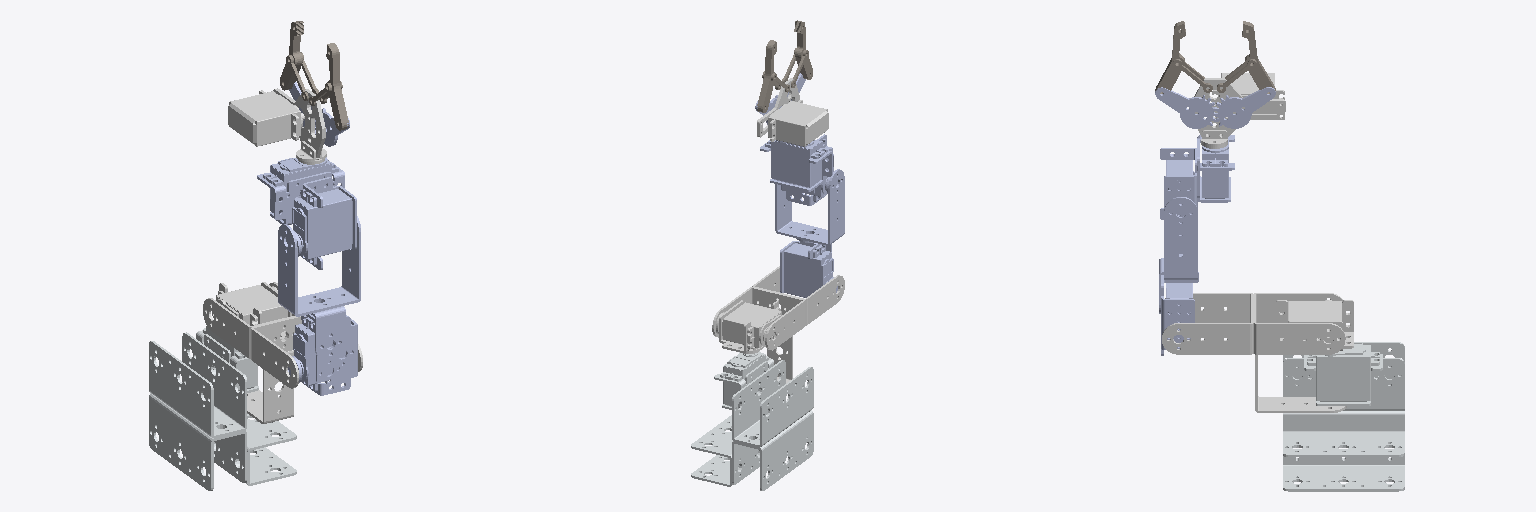
robot.urdf — robotics_arm:
<?xml version="1.0" encoding="utf-8"?>
<!-- This URDF was automatically created by SolidWorks to URDF Exporter! Originally created by [author] ([email redacted]) 
     Commit Version: 1.6.0-4-g7f85cfe  Build Version: 1.6.7995.38578
     For more information, please see http://wiki.ros.org/sw_urdf_exporter -->
<robot
  name="robotics_arm">
  <link
    name="base_link">
    <inertial>
      <origin
        xyz="0.0 0.0 0.0"
        rpy="0 0 0" />
      <mass
        value="0.19532" />
      <inertia
        ixx="0.00014045"
        ixy="2.4979E-07"
        ixz="7.5111E-16"
        iyy="0.00013483"
        iyz="-7.6006E-08"
        izz="6.0782E-05" />
    </inertial>
    <visual>
      <origin
        xyz="0 0 0"
        rpy="0 0 0" />
      <geometry>
        <mesh
          filename="package://robotics_arm_description/meshes/base_link.STL" />
      </geometry>
      <material
        name="">
        <color
          rgba="0.89804 0.91765 0.92941 1" />
      </material>
    </visual>
    <collision>
      <origin
        xyz="0 0 0"
        rpy="0 0 0" />
      <geometry>
        <mesh
          filename="package://robotics_arm_description/meshes/base_link.STL" />
      </geometry>
    </collision>
  </link>
  <link
    name="link_1">
    <inertial>
      <origin
        xyz="-0.0031208 -0.0049756 0.01652"
        rpy="0 0 0" />
      <mass
        value="0.075267" />
      <inertia
        ixx="3.3545E-05"
        ixy="-2.4977E-07"
        ixz="7.6005E-08"
        iyy="2.6443E-05"
        iyz="-7.5076E-16"
        izz="2.2815E-05" />
    </inertial>
    <visual>
      <origin
        xyz="0 0 0"
        rpy="0 0 0" />
      <geometry>
        <mesh
          filename="package://robotics_arm_description/meshes/link_1.STL" />
      </geometry>
      <material
        name="">
        <color
          rgba="0.89804 0.89804 0.89804 1" />
      </material>
    </visual>
    <collision>
      <origin
        xyz="0 0 0"
        rpy="0 0 0" />
      <geometry>
        <mesh
          filename="package://robotics_arm_description/meshes/link_1.STL" />
      </geometry>
    </collision>
  </link>
  <joint
    name="joint_1"
    type="revolute">
    <origin
      xyz="0.025 -0.01 0.105"
      rpy="-1.5708 0 3.142" />
    <parent
      link="base_link" />
    <child
      link="link_1" />
    <axis
      xyz="0 -1 0" />
    <limit
      lower="0"
      upper="3.142"
      effort="1.0"
      velocity="0.5" />
  </joint>
  <link
    name="link_2">
    <inertial>
      <origin
        xyz="-8.918E-07 -0.00018014 -0.049337"
        rpy="0 0 0" />
      <mass
        value="0.050948" />
      <inertia
        ixx="4.596E-05"
        ixy="2.8376E-20"
        ixz="-1.4107E-12"
        iyy="2.2618E-05"
        iyz="5.9094E-21"
        izz="2.8467E-05" />
    </inertial>
    <visual>
      <origin
        xyz="0 0 0"
        rpy="0 0 0" />
      <geometry>
        <mesh
          filename="package://robotics_arm_description/meshes/link_2.STL" />
      </geometry>
      <material
        name="">
        <color
          rgba="0.89804 0.89804 0.89804 1" />
      </material>
    </visual>
    <collision>
      <origin
        xyz="0 0 0"
        rpy="0 0 0" />
      <geometry>
        <mesh
          filename="package://robotics_arm_description/meshes/link_2.STL" />
      </geometry>
    </collision>
  </link>
  <joint
    name="joint_2"
    type="revolute">
    <origin
      xyz="-0.005 -0.019745 0.001"
      rpy="0 3.142 -1.571" />
    <parent
      link="link_1" />
    <child
      link="link_2" />
    <axis
      xyz="0 1 0" />
    <limit
      lower="0"
      upper="3.142"
      effort="1.0"
      velocity="0.5" />
  </joint>
  <link
    name="link_3">
    <inertial>
      <origin
        xyz="-0.074631 -0.0 -0.10187"
        rpy="0 0 0" />
      <mass
        value="0.08247" />
      <inertia
        ixx="2.3646E-05"
        ixy="-7.6043E-08"
        ixz="3.7595E-07"
        iyy="2.3364E-05"
        iyz="2.4976E-07"
        izz="3.9386E-05" />
    </inertial>
    <visual>
      <origin
        xyz="0 0 0"
        rpy="0 0 0" />
      <geometry>
        <mesh
          filename="package://robotics_arm_description/meshes/link_3.STL" />
      </geometry>
      <material
        name="">
        <color
          rgba="0.79216 0.81961 0.93333 1" />
      </material>
    </visual>
    <collision>
      <origin
        xyz="0 0 0"
        rpy="0 0 0" />
      <geometry>
        <mesh
          filename="package://robotics_arm_description/meshes/link_3.STL" />
      </geometry>
    </collision>
  </link>
  <joint
    name="joint_3"
    type="revolute">
    <origin
      xyz="0.0 0.025 -0.11"
      rpy="0 3.142 3.142" />
    <parent
      link="link_2" />
    <child
      link="link_3" />
    <axis
      xyz="0 1 0" />
    <limit
      lower="0"
      upper="3.142"
      effort="1.0"
      velocity="0.5" />
  </joint>
  <link
    name="link_4">
    <inertial>
      <origin
        xyz="-0.001684 0.021693 0.033431"
        rpy="0 0 0" />
      <mass
        value="0.099586" />
      <inertia
        ixx="1.9146E-05"
        ixy="-1.5201E-07"
        ixz="-2.4979E-07"
        iyy="1.928E-05"
        iyz="-2.4979E-07"
        izz="3.0134E-05" />
    </inertial>
    <visual>
      <origin
        xyz="0 0 0"
        rpy="0 0 0" />
      <geometry>
        <mesh
          filename="package://robotics_arm_description/meshes/link_4.STL" />
      </geometry>
      <material
        name="">
        <color
          rgba="0.79216 0.81961 0.93333 1" />
      </material>
    </visual>
    <collision>
      <origin
        xyz="0 0 0"
        rpy="0 0 0" />
      <geometry>
        <mesh
          filename="package://robotics_arm_description/meshes/link_4.STL" />
      </geometry>
    </collision>
  </link>
  <joint
    name="joint_4"
    type="revolute">
    <origin
      xyz="-0.1 -0.0005 -0.0"
      rpy="3.1416 0 0" />
    <parent
      link="link_3" />
    <child
      link="link_4" />
    <axis
      xyz="0.0 -1 0.0" />
    <limit
      lower="0"
      upper="3.142"
      effort="1.0"
      velocity="0.5" />
  </joint>


  <!--Gripper-->
  <link
    name="gripper_base">
    <inertial>
      <origin
        xyz="-0.000363540838981241 -0.00348535609044029 -8.80955530746519E-10"
        rpy="0 0 0" />
      <mass
        value="0.00593633535356358" />
      <inertia
        ixx="1.59159341867429E-07"
        ixy="1.90789506838977E-09"
        ixz="-8.84539102937578E-17"
        iyy="2.93200101138606E-07"
        iyz="-3.77523037886217E-16"
        izz="1.49447486803871E-07" />
    </inertial>
    <visual>
      <origin
        xyz="0 0 0"
        rpy="0 0 0" />
      <geometry>
        <mesh
          filename="package://robotics_arm_description/meshes/gripper_base.STL" />
      </geometry>
      <material
        name="">
        <color
          rgba="0.898039215686275 0.898039215686275 0.898039215686275 1" />
      </material>
    </visual>
    <collision>
      <origin
        xyz="0 0 0"
        rpy="0 0 0" />
      <geometry>
        <mesh
          filename="package://robotics_arm_description/meshes/gripper_base.STL" />
      </geometry>
    </collision>
  </link>
  <joint
    name="gripper_base_joint"
    type="revolute">
    <origin
      xyz="-0.048 -0.03 0.026"
      rpy="3.142 0 1.5708" />
    <parent
      link="link_4" />
    <child
      link="gripper_base" />
    <axis
      xyz="0 -1 0" />
    <limit
      lower="0"
      upper="3.142"
      effort="1.0"
      velocity="0.5" />
  </joint>
  
  <link
    name="right_knuckle">
    <inertial>
      <origin
        xyz="0.00668261986107144 0.000411552195934639 0.00125000041516807"
        rpy="0 0 0" />
      <mass
        value="0.00186749158806896" />
      <inertia
        ixx="6.43881538535286E-08"
        ixy="8.60444943248738E-09"
        ixz="1.44343016890503E-22"
        iyy="2.9102971724496E-07"
        iyz="-3.5237894094759E-22"
        izz="3.53472567360917E-07" />
    </inertial>
    <visual>
      <origin
        xyz="0 0 0"
        rpy="0 0 0" />
      <geometry>
        <mesh
          filename="package://robotics_arm_description/meshes/right_knuckle.STL" />
      </geometry>
      <material
        name="">
        <color
          rgba="0.792156862745098 0.819607843137255 0.933333333333333 1" />
      </material>
    </visual>
    <collision>
      <origin
        xyz="0 0 0"
        rpy="0 0 0" />
      <geometry>
        <mesh
          filename="package://robotics_arm_description/meshes/right_knuckle.STL" />
      </geometry>
    </collision>
  </link>
  <joint
    name="gripper_joint"
    type="revolute">
    <origin
      xyz="-0.0045 -0.029286 -0.014782"
      rpy="1.5708 0.99851 -1.5708" />
    <parent
      link="gripper_base" />
    <child
      link="right_knuckle" />
    <axis
      xyz="0 0 1" />
    <limit
      lower="0"
      upper="0.8"
      effort="1.0"
      velocity="0.5" />
  </joint>
  <link
    name="right_finger">
    <inertial>
       <origin
        xyz="-0.00979937596486929 0.00270099795344181 -3.55234022753059E-10"
        rpy="0 0 0" />
      <mass
        value="0.0228241558821815" />
      <inertia
        ixx="5.52737412324421E-07"
        ixy="1.37764922823382E-06"
        ixz="2.4709539258184E-20"
        iyy="6.56789691049883E-06"
        iyz="-6.88214269644119E-21"
        izz="7.08639808899998E-06" />
    </inertial>
    <visual>
      <origin
        xyz="0 0 0"
        rpy="0 0 0" />
      <geometry>
        <mesh
          filename="package://robotics_arm_description/meshes/left_finger.STL" />
      </geometry>
      <material
        name="">
        <color
          rgba="0.647058823529412 0.619607843137255 0.588235294117647 1" />
      </material>
    </visual>
    <collision>
      <origin
        xyz="0 0 0"
        rpy="0 0 0" />
      <geometry>
        <mesh
          filename="package://robotics_arm_description/meshes/left_finger.STL" />
      </geometry>
    </collision>
  </link>
  <joint
    name="right_outer_joint"
    type="revolute">
    <origin
      xyz="0.03 0.0 -0.005"
      rpy="0 0 -1.647" />
    <parent
      link="right_knuckle" />
    <child
      link="right_finger" />
    <axis
      xyz="0 0 -1" />
    <limit
      lower="0"
      upper="0.8"
      effort="1.0"
      velocity="0.5" />
    <mimic
      joint="gripper_joint"
      multiplier="1"
      offset="0" />
  </joint>
  <link
    name="right_inner_link">
    <inertial>
      <origin
        xyz="5.1147974744481E-13 -2.2266355426126E-12 0.00550000000011003"
        rpy="0 0 0" />
      <mass
        value="0.00510100743119223" />
      <inertia
        ixx="1.34527151286055E-08"
        ixy="-3.34811858124617E-18"
        ixz="5.43871252753616E-23"
        iyy="6.76243183348528E-07"
        iyz="6.28657265540301E-23"
        izz="6.84382349069641E-07" />
    </inertial>
    <visual>
      <origin
        xyz="0 0 0"
        rpy="0 0 0" />
      <geometry>
        <mesh
          filename="package://robotics_arm_description/meshes/left_inner_link.STL" />
      </geometry>
      <material
        name="">
        <color
          rgba="0.647058823529412 0.619607843137255 0.588235294117647 1" />
      </material>
    </visual>
    <collision>
      <origin
        xyz="0 0 0"
        rpy="0 0 0" />
      <geometry>
        <mesh
          filename="package://robotics_arm_description/meshes/left_inner_link.STL" />
      </geometry>
    </collision>
  </link>
  <joint
    name="right_inner_joint"
    type="revolute">
    <origin
      xyz="-0.0025 -0.05 -0.005"
      rpy="1.5708 -0.85555 1.5708" />
    <parent
      link="gripper_base" />
    <child
      link="right_inner_link" />
    <axis
      xyz="0 0 -1" />
    <limit
      lower="0"
      upper="0.8"
      effort="1.0"
      velocity="0.5" />
    <mimic
      joint="gripper_joint"
      multiplier="1"
      offset="0" />
  </joint>
  <link
    name="left_inner_link">
    <inertial>
      <origin
        xyz="-3.23715826366922E-09 2.54691268075646E-10 -0.00300000007424722"
        rpy="0 0 0" />
      <mass
        value="0.00510100743119225" />
      <inertia
        ixx="1.34527151286056E-08"
        ixy="-6.39099484239893E-15"
        ixz="2.94455618553564E-21"
        iyy="6.76243183348529E-07"
        iyz="-1.32348898008484E-23"
        izz="6.84382349069643E-07" />
    </inertial>
    <visual>
      <origin
        xyz="0 0 0"
        rpy="0 0 0" />
      <geometry>
        <mesh
          filename="package://robotics_arm_description/meshes/left_inner_link.STL" />
      </geometry>
      <material
        name="">
        <color
          rgba="0.647058823529412 0.619607843137255 0.588235294117647 1" />
      </material>
    </visual>
    <collision>
      <origin
        xyz="0 0 0"
        rpy="0 0 0" />
      <geometry>
        <mesh
          filename="package://robotics_arm_description/meshes/left_inner_link.STL" />
      </geometry>
    </collision>
  </link>
  <joint
    name="left_inner_joint"
    type="revolute">
    <origin
      xyz="-0.0025 -0.05 0.005"
      rpy="-1.5708 0.84609 1.5708" />
    <parent
      link="gripper_base" />
    <child
      link="left_inner_link" />
    <axis
      xyz="0 0 -1" />
    <limit
      lower="0"
      upper="0.8"
      effort="1.0"
      velocity="0.5" />
    <mimic
      joint="gripper_joint"
      multiplier="1"
      offset="0" />
  </joint>
  <link
    name="left_knuckle">
    <inertial>
      <origin
        xyz="0.00668260569846107 0.000411535901404525 0.00125000002359923"
        rpy="0 0 0" />
      <mass
        value="0.00186749158806896" />
      <inertia
        ixx="6.43881535863432E-08"
        ixy="8.60444591364846E-09"
        ixz="1.04927860702352E-21"
        iyy="2.91029717512146E-07"
        iyz="1.91905902112302E-22"
        izz="3.53472567360918E-07" />
    </inertial>
    <visual>
      <origin
        xyz="0 0 0"
        rpy="0 0 0" />
      <geometry>
        <mesh
          filename="package://robotics_arm_description/meshes/left_knuckle.STL" />
      </geometry>
      <material
        name="">
        <color
          rgba="0.792156862745098 0.819607843137255 0.933333333333333 1" />
      </material>
    </visual>
    <collision>
      <origin
        xyz="0 0 0"
        rpy="0 0 0" />
      <geometry>
        <mesh
          filename="package://robotics_arm_description/meshes/left_knuckle.STL" />
      </geometry>
    </collision>
  </link>
  <joint
    name="left_knuckle_joint"
    type="revolute">
    <origin
      xyz="-0.007 -0.029303 0.013318"
      rpy="-1.5708 -1.0122 -1.5708" />
    <parent
      link="gripper_base" />
    <child
      link="left_knuckle" />
    <axis
      xyz="0 0 1" />
    <limit
      lower="0"
      upper="0.8"
      effort="1.0"
      velocity="0.5" />
    <mimic
      joint="gripper_joint"
      multiplier="1"
      offset="0" />
  </joint>
  <link
    name="left_finger">
    <inertial>
      <origin
        xyz="-0.00979937915283868 0.00270100620085434 0.00300000005464007"
        rpy="0 0 0" />
      <mass
        value="0.0228241558821816" />
      <inertia
        ixx="5.52737369249781E-07"
        ixy="1.37764913419651E-06"
        ixz="-3.03773808153974E-20"
        iyy="6.56789695357349E-06"
        iyz="6.63610816299495E-21"
        izz="7.08639808899999E-06" />
    </inertial>
    <visual>
      <origin
        xyz="0 0 0"
        rpy="0 0 0" />
      <geometry>
        <mesh
          filename="package://robotics_arm_description/meshes/left_finger.STL" />
      </geometry>
      <material
        name="">
        <color
          rgba="0.647058823529412 0.619607843137255 0.588235294117647 1" />
      </material>
    </visual>
    <collision>
      <origin
        xyz="0 0 0"
        rpy="0 0 0" />
      <geometry>
        <mesh
          filename="package://robotics_arm_description/meshes/left_finger.STL" />
      </geometry>
    </collision>
  </link>
  <joint
    name="left_finger_joint"
    type="revolute">
    <origin
      xyz="0.03 0.0 0.001"
      rpy="0 0 -1.6774" />
    <parent
      link="left_knuckle" />
    <child
      link="left_finger" />
    <axis
      xyz="0 0 -1" />
    <limit
      lower="0"
      upper="0.8"
      effort="1.0"
      velocity="0.5" />
    <mimic
      joint="gripper_joint"
      multiplier="1"
      offset="0" />
  </joint>
</robot>

--- Render facts (derived) ---
3 views of the same robot in one strip: view 1: azimuth 30°, elevation 25°; view 2: azimuth 150°, elevation 25°; view 3: azimuth 270°, elevation 25° (orthographic).
Robot: robotics_arm — 12 links, 11 joints (11 revolute); root link base_link; default pose: all joints at 0.
Links seen in each view (by area): view 1: base_link, link_3, link_4, gripper_base, link_2, link_1, left_finger, right_finger; view 2: base_link, link_3, link_2, link_4, link_1, gripper_base, right_finger, left_finger; view 3: base_link, link_2, link_3, link_4, link_1, gripper_base, right_knuckle, left_knuckle, right_finger, left_finger.
Link boxes in pixels (left/top/right/bottom): base_link: left=149, top=326, right=296, bottom=490; link_3: left=278, top=216, right=360, bottom=395; link_4: left=257, top=157, right=356, bottom=269; gripper_base: left=228, top=88, right=326, bottom=164; link_2: left=203, top=282, right=362, bottom=388; link_1: left=212, top=282, right=293, bottom=423; left_finger: left=326, top=43, right=348, bottom=130; right_finger: left=280, top=21, right=303, bottom=90; base_link: left=691, top=351, right=813, bottom=490; link_3: left=775, top=169, right=844, bottom=297; link_2: left=712, top=266, right=844, bottom=349; link_4: left=760, top=134, right=837, bottom=205; link_1: left=719, top=300, right=792, bottom=383; gripper_base: left=757, top=78, right=828, bottom=146; right_finger: left=757, top=40, right=776, bottom=112; left_finger: left=794, top=20, right=812, bottom=79; base_link: left=1283, top=342, right=1404, bottom=491; link_2: left=1162, top=293, right=1345, bottom=354; link_3: left=1159, top=171, right=1198, bottom=355; link_4: left=1160, top=135, right=1234, bottom=222; link_1: left=1255, top=300, right=1353, bottom=412; gripper_base: left=1194, top=73, right=1285, bottom=148; right_knuckle: left=1214, top=87, right=1275, bottom=128; left_knuckle: left=1155, top=87, right=1216, bottom=128; right_finger: left=1242, top=21, right=1275, bottom=93; left_finger: left=1155, top=21, right=1185, bottom=93.
Bounding box of the posed robot: 0.0751 × 0.1837 × 0.3744 m (x, y, z).
12 mesh visuals loaded from 10 distinct referenced files (10 binary STL).